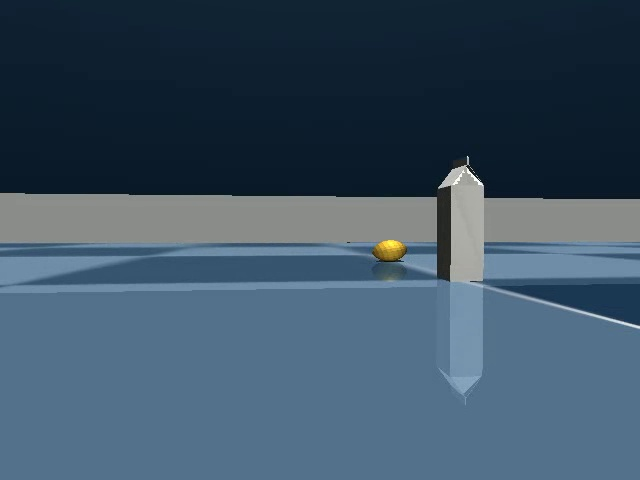lemon: (365, 234, 413, 266)
milk: (429, 149, 493, 292)
